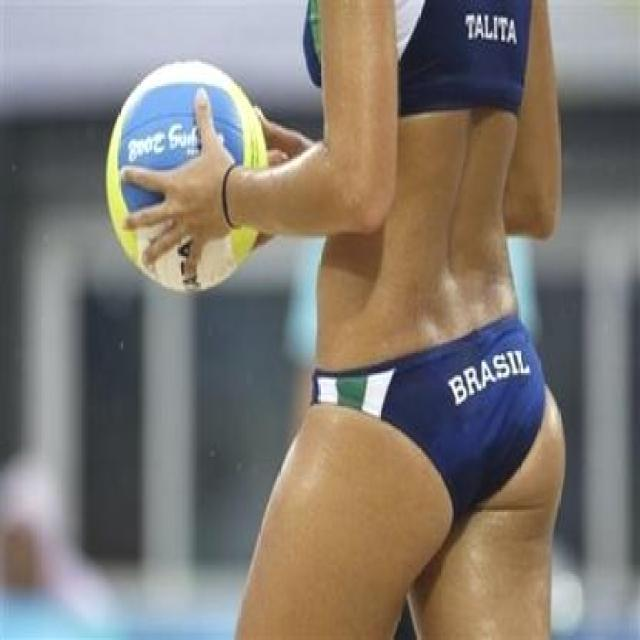volleyball: (107, 62, 270, 290)
